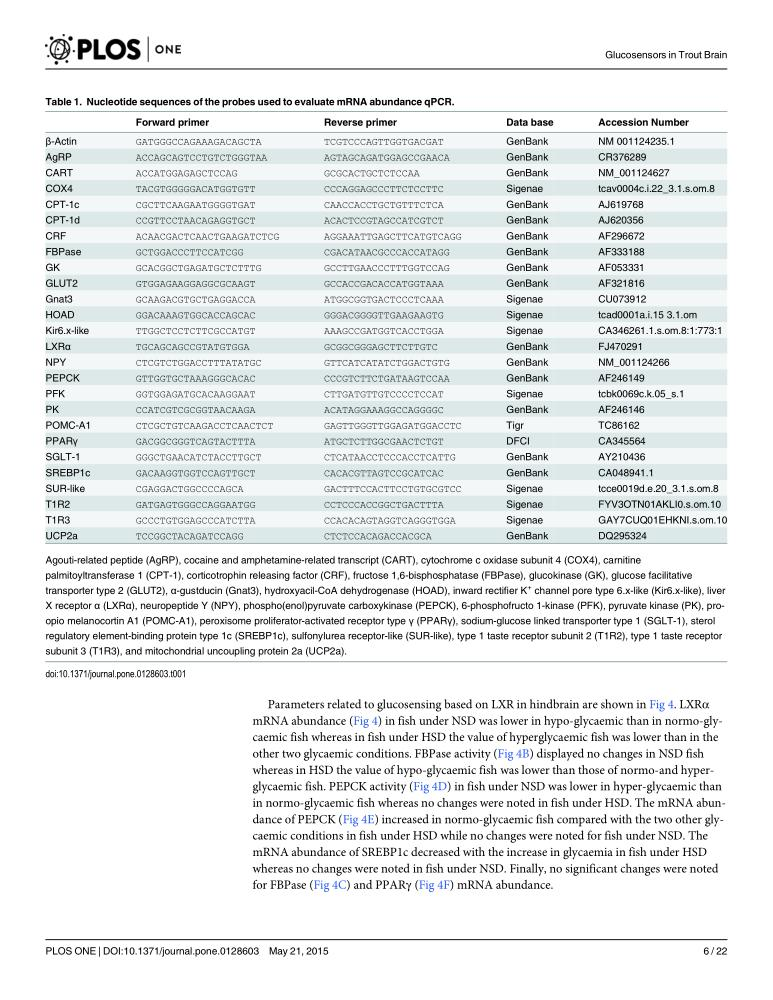table: (45, 116, 726, 542)
